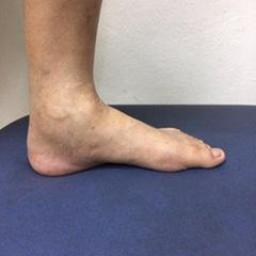Medial View -Left Foot-: (16, 67, 236, 194)
